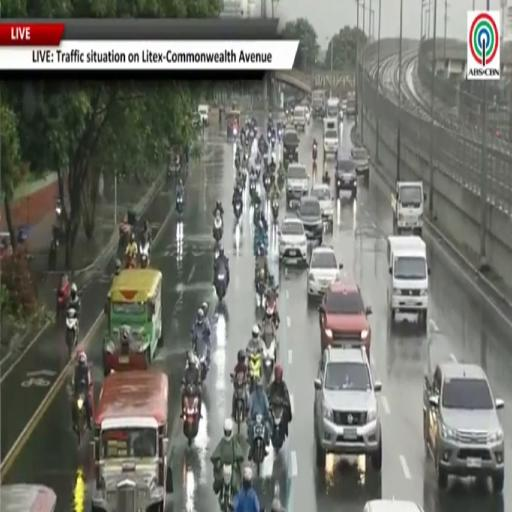car: (423, 360, 504, 492), (314, 347, 381, 471), (319, 281, 371, 356), (307, 246, 342, 300), (279, 217, 307, 263), (297, 196, 323, 244), (335, 153, 357, 198), (311, 184, 333, 228), (286, 163, 308, 206), (363, 499, 423, 511), (351, 148, 369, 180), (283, 128, 299, 163), (294, 105, 306, 131), (198, 104, 209, 125), (304, 105, 311, 124), (341, 99, 347, 112)
jeepney: (92, 371, 173, 511), (103, 268, 163, 375), (0, 485, 56, 511), (227, 110, 240, 139)
motorcycle: (183, 384, 200, 445), (230, 374, 247, 434), (262, 323, 276, 387), (192, 333, 209, 381), (252, 414, 265, 475), (219, 464, 235, 511), (271, 400, 285, 452), (75, 392, 87, 445), (66, 308, 78, 357), (248, 351, 261, 393), (57, 280, 70, 321), (255, 268, 267, 308), (215, 269, 226, 301), (198, 351, 208, 381), (267, 291, 278, 318), (213, 216, 223, 242), (139, 242, 149, 263), (253, 202, 261, 227), (176, 196, 184, 221), (264, 172, 272, 195), (249, 181, 257, 203), (234, 201, 242, 222), (272, 200, 279, 223), (125, 256, 136, 268), (242, 166, 247, 189), (214, 241, 220, 260), (286, 151, 294, 164), (255, 162, 261, 179), (270, 133, 275, 149), (313, 144, 317, 162), (263, 152, 268, 165), (278, 128, 282, 141), (268, 130, 272, 141)
truck: (391, 182, 425, 235), (312, 89, 326, 118), (345, 91, 357, 117)
